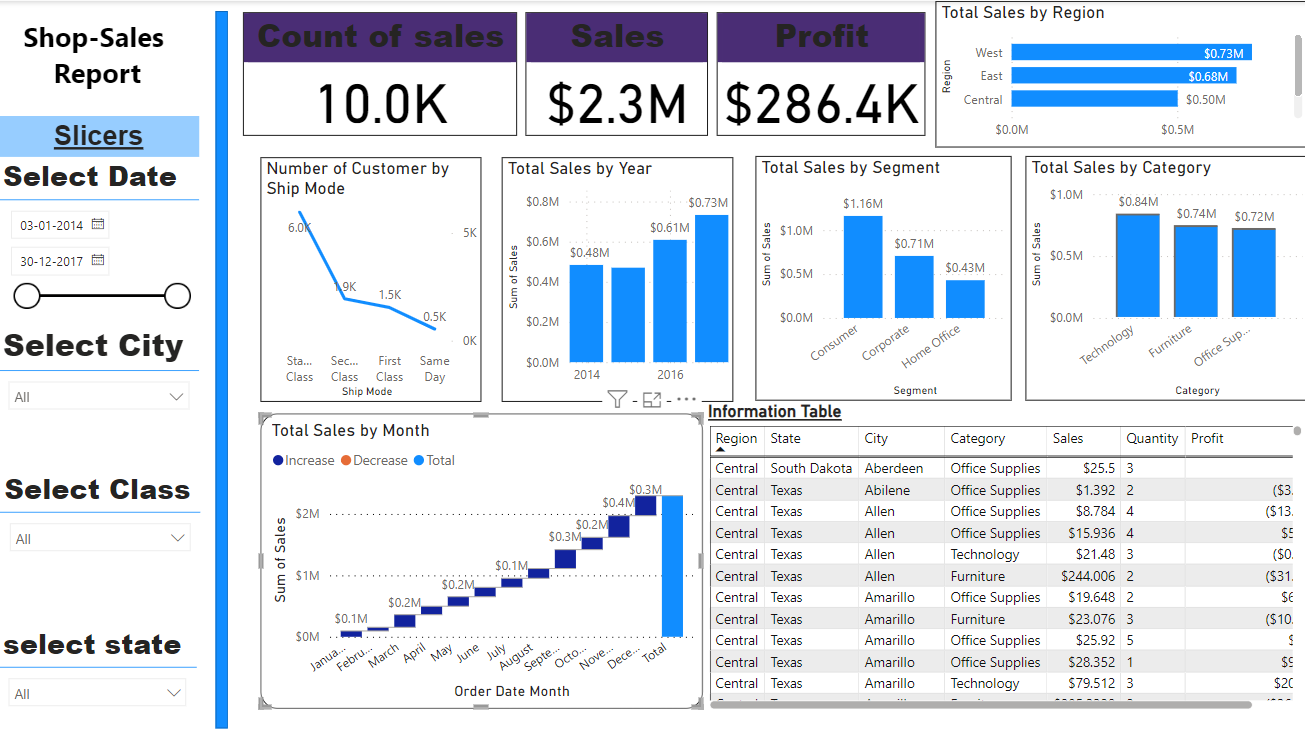

The page's visual inventory and layout, read from the dashboard file:
{"tool":"powerbi","page":{"name":"Page 1","canvas":[1280,720],"ordinal":0},"visuals":[{"type":"tableEx","title":"Information Table","fields":{"Values":["Sample - Superstore.Region","Sample - Superstore.State","Sample - Superstore.City","Sample - Superstore.Category","Sample - Superstore.Sales","Sample - Superstore.Quantity","Sample - Superstore.Profit"]},"box":[689.4,391.2,590.4,306.8],"z":0},{"type":"clusteredColumnChart","title":"Total Sales by Category","fields":{"Category":["Sample - Superstore.Category"],"Y":["Sum(Sample - Superstore.Sales)"]},"box":[1004.8,151.6,275,239.6],"z":1000},{"type":"clusteredColumnChart","title":"Total Sales by Segment","fields":{"Category":["Sample - Superstore.Segment"],"Y":["Sum(Sample - Superstore.Sales)"]},"box":[740.8,151.6,250.6,239.6],"z":2000},{"type":"clusteredColumnChart","title":"Total Sales by Year","fields":{"Category":["Sample - Superstore.Order Date.Variation.Date Hierarchy.Year"],"Y":["Sum(Sample - Superstore.Sales)"]},"box":[492.6,152.8,226.1,239.6],"z":3000},{"type":"waterfallChart","title":"Total Sales by Month","fields":{"Y":["Sum(Sample - Superstore.Sales)"],"Category":["Sample - Superstore.Order Date.Variation.Date Hierarchy.Month"]},"box":[256.7,403.4,432.7,288.5],"z":4000},{"type":"lineChart","title":"Number of Customer by Ship Mode","fields":{"Category":["Sample - Superstore.Ship Mode"],"Y2":["CountNonNull(Sample - Superstore.Customer Name)"]},"box":[256.7,152.8,216.4,239.6],"z":5000},{"type":"barChart","title":"Total Sales by Region","fields":{"Category":["Sample - Superstore.Region"],"Y":["Sum(Sample - Superstore.Sales)"]},"box":[916.8,0,363.1,143],"z":6000},{"type":"card","title":"Profit","fields":{"Values":["Sum(Sample - Superstore.Profit)"]},"box":[702.9,11,204.1,121],"z":7000},{"type":"card","title":"Sales","fields":{"Values":["Sum(Sample - Superstore.Sales)"]},"box":[515.9,11,178.5,121],"z":8000},{"type":"card","title":"Count of sales","fields":{"Values":["CountNonNull(Sample - Superstore.Sales)"]},"box":[239.6,11,267.7,121],"z":9000},{"type":"slicer","title":"Select Date","fields":{"Values":["Sample - Superstore.Order Date"]},"box":[0,151.6,196.8,157.7],"z":10000},{"type":"slicer","title":"Select City","fields":{"Values":["Sample - Superstore.City"]},"box":[0,315.4,196.8,90.5],"z":11000},{"type":"slicer","title":"Select Class","fields":{"Values":["Sample - Superstore.Ship Mode"]},"box":[1.2,457.2,196.8,90.5],"z":12000},{"type":"textbox","box":[0,112.5,196.8,40.3],"z":13000},{"type":"slicer","title":"select state","fields":{"Values":["Sample - Superstore.State"]},"box":[0,608.8,194.4,90.5],"z":14000},{"type":"shape","box":[212.7,9.8,12.2,701.7],"z":15000},{"type":"textbox","box":[0,11,194.4,89.2],"z":16000}]}

Visuals, with their boxes in screenshot pixels (x1, y1, x2, y2), scaled from the page's 1280x720 canvas onto the 1305x733 screenshot:
"Information Table" tableEx: region(703, 398, 1304, 711)
"Total Sales by Category" clusteredColumnChart: region(1024, 154, 1304, 398)
"Total Sales by Segment" clusteredColumnChart: region(755, 154, 1011, 398)
"Total Sales by Year" clusteredColumnChart: region(502, 156, 733, 399)
"Total Sales by Month" waterfallChart: region(262, 411, 703, 704)
"Number of Customer by Ship Mode" lineChart: region(262, 156, 482, 399)
"Total Sales by Region" barChart: region(935, 0, 1304, 146)
"Profit" card: region(717, 11, 925, 134)
"Sales" card: region(526, 11, 708, 134)
"Count of sales" card: region(244, 11, 517, 134)
"Select Date" slicer: region(0, 154, 201, 315)
"Select City" slicer: region(0, 321, 201, 413)
"Select Class" slicer: region(1, 465, 202, 558)
textbox: region(0, 115, 201, 156)
"select state" slicer: region(0, 620, 198, 712)
shape: region(217, 10, 229, 724)
textbox: region(0, 11, 198, 102)
